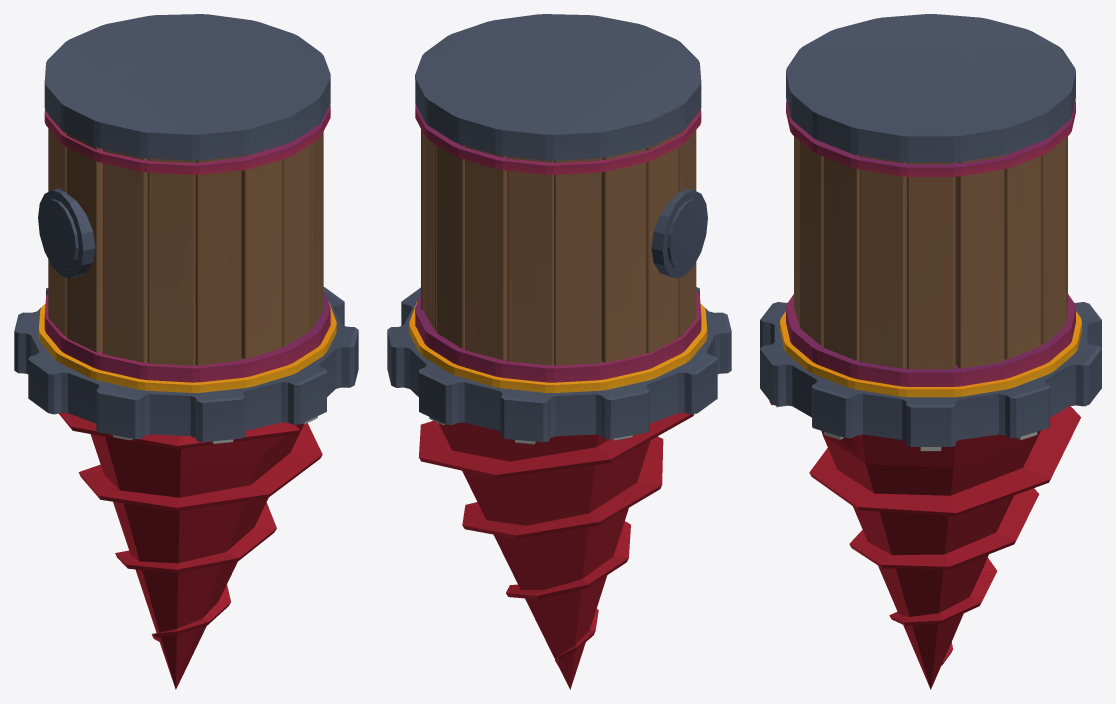
Rendered from drill2.fbx.
3 views of the same model, side by side, from view 1: azimuth 30°, elevation 25°; view 2: azimuth 150°, elevation 25°; view 3: azimuth 270°, elevation 25° (orthographic).
Visible parts, largest first — view 1: Circle; view 2: Circle; view 3: Circle.
Part boxes in pixels (x1,y1,x2,y2): Circle: [14, 14, 358, 689]; Circle: [387, 14, 731, 689]; Circle: [760, 14, 1101, 689].
Size of the model in its own units: 0.7623 by 1.51 by 0.7525.
